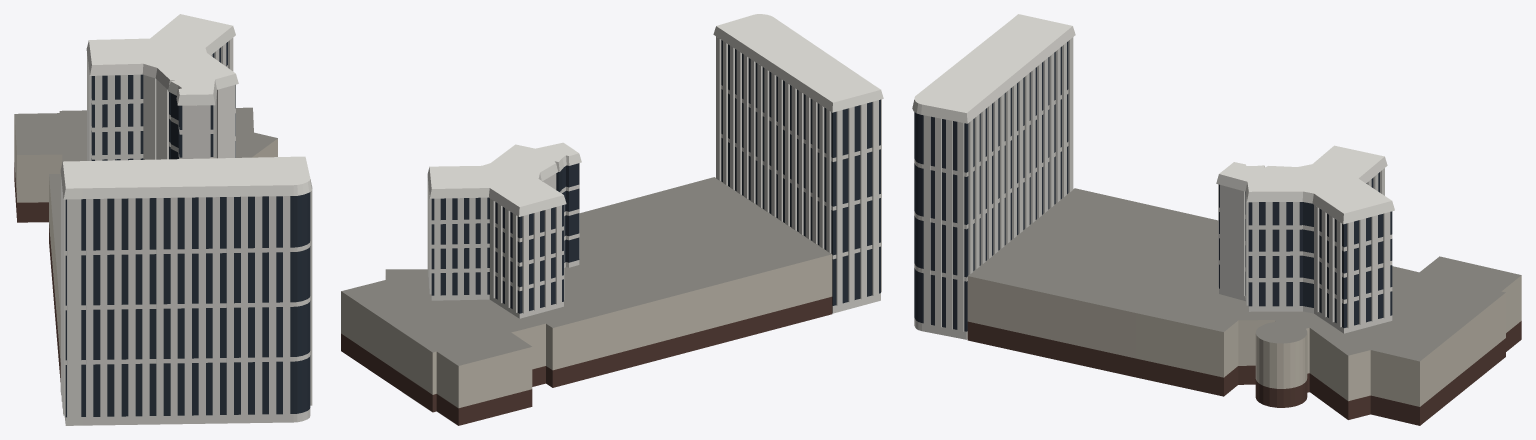
The model's file is plaza_hotel_casino_w33967431.glb.
3 views of the same model, side by side, from view 1: azimuth 30°, elevation 25°; view 2: azimuth 150°, elevation 25°; view 3: azimuth 270°, elevation 25° (orthographic). The views are drawn at different scales.
Parts seen in each view (by area): view 1: Tower; view 2: Tower; view 3: Tower.
Boxes of the visible parts, box(x1,y1,x2,y2) form: Tower: box(14, 14, 312, 425); Tower: box(341, 14, 883, 425); Tower: box(912, 14, 1521, 425).
Size of the model in its own units: 148 by 83.7 by 204.
